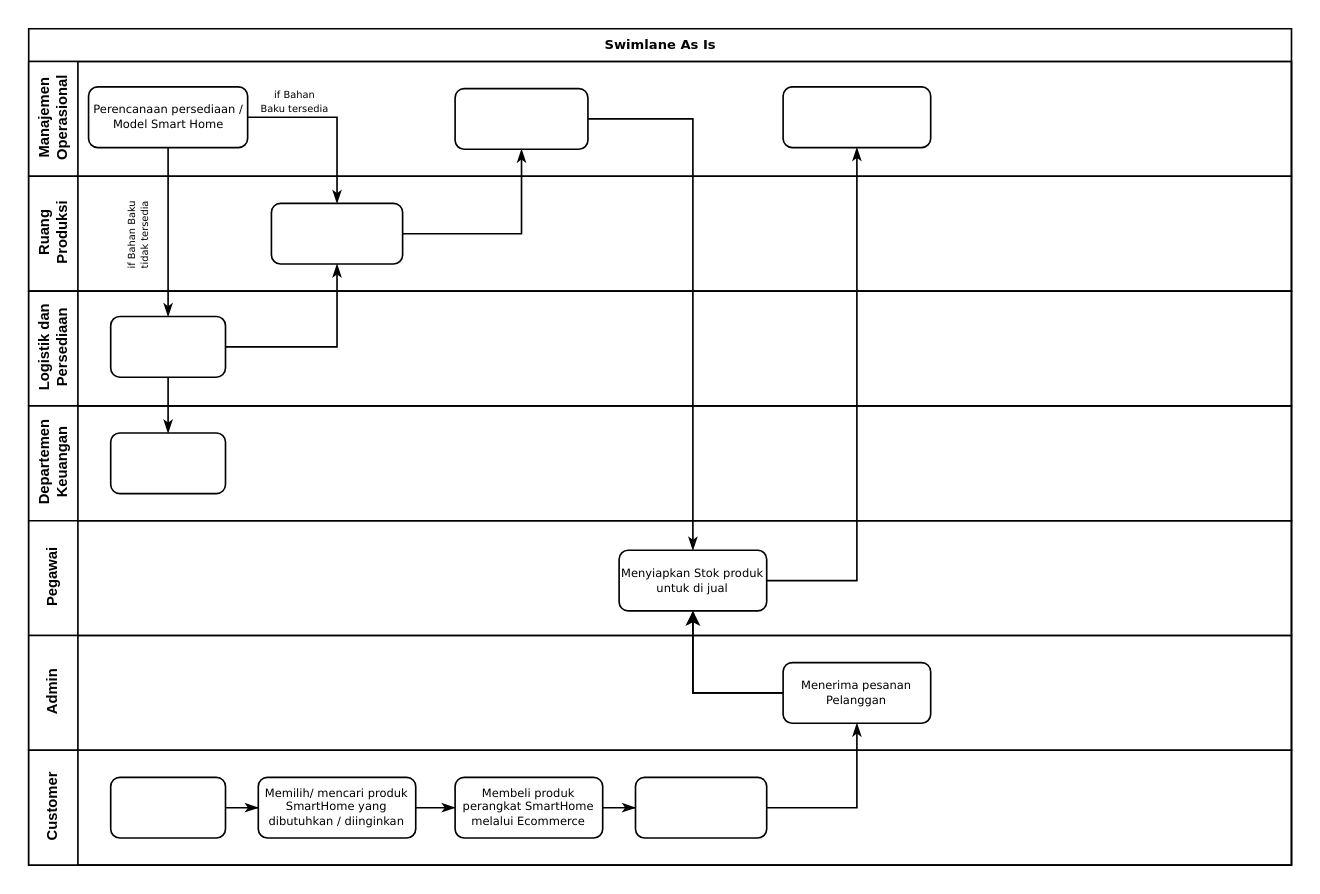
This 1320x894 diagram has some shape labels left out. The centre of each missing label's shape, as x and y in pixels:
"Laporan Keuangan pembelian bahan baku" goes at point 167,462.
"Membayar Pembayaran produk" goes at point 700,807.
"Mengunjungi Toko" goes at point 167,807.
"Menyiapkan pesanan Pelanggan" goes at point 856,116.
"Pencarian / Pembelian bahan baku" goes at point 167,346.
"Pengecekan Produk / Test QC" goes at point 520,118.
"Produksi Pembuatan Perangkat Smart Home" goes at point 336,233.
